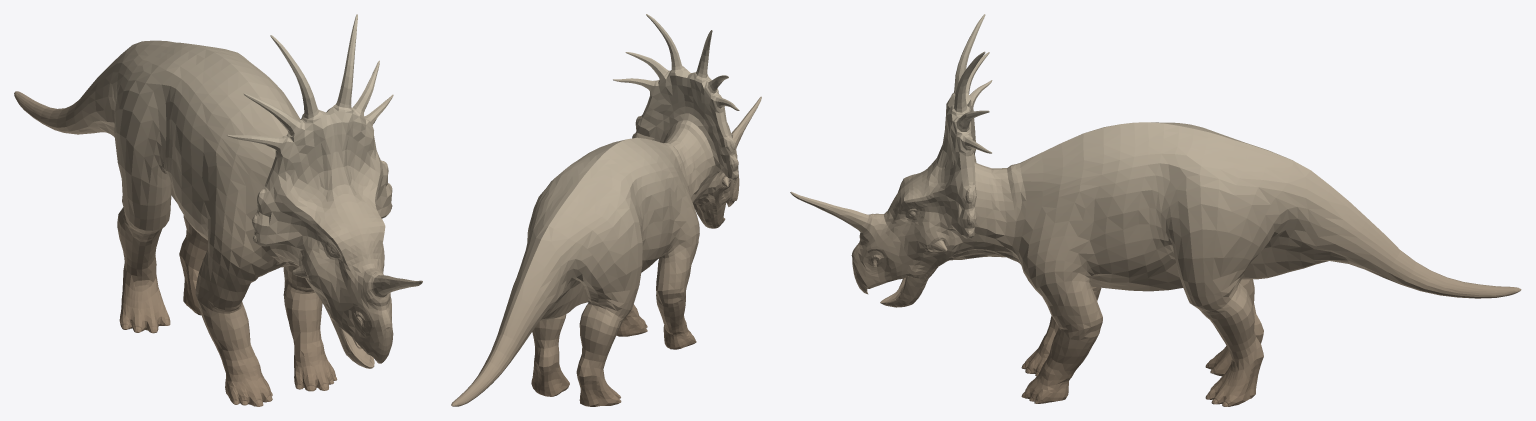
Rendered from styracosaurus.glb.
The picture shows the model from 3 angles, left to right: view 1: azimuth 30°, elevation 25°; view 2: azimuth 150°, elevation 25°; view 3: azimuth 270°, elevation 25°; orthographic projection. The views are drawn at different scales.
Parts seen in each view (by area): view 1: styracosaurus; view 2: styracosaurus; view 3: styracosaurus.
Boxes of the visible parts, <box> form: styracosaurus: <box>14,14,422,406</box>; styracosaurus: <box>451,14,761,406</box>; styracosaurus: <box>790,14,1521,406</box>.
Size of the model in its own units: 3.1 by 6.96 by 13.13.
